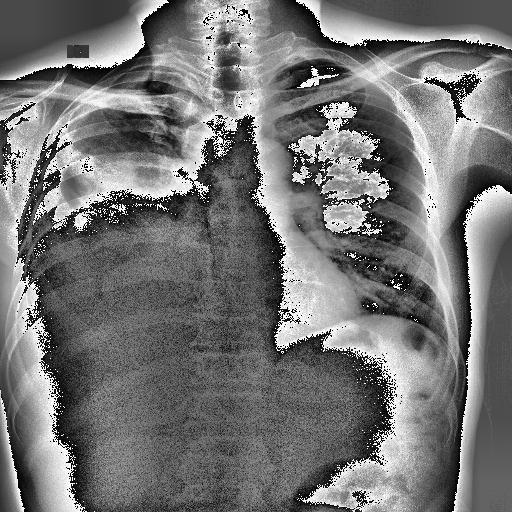10- Pleural effusion: (43, 78, 200, 352), (6, 200, 174, 362), (4, 207, 138, 346)
11- Pleural thickening: (51, 60, 153, 145), (72, 52, 158, 120)
12- Pneumothorax: (58, 170, 86, 208)
4- Consolidation: (58, 72, 200, 294), (66, 108, 204, 310)
7- Lung Opacity: (58, 72, 200, 294), (66, 108, 204, 310), (76, 109, 176, 194)
